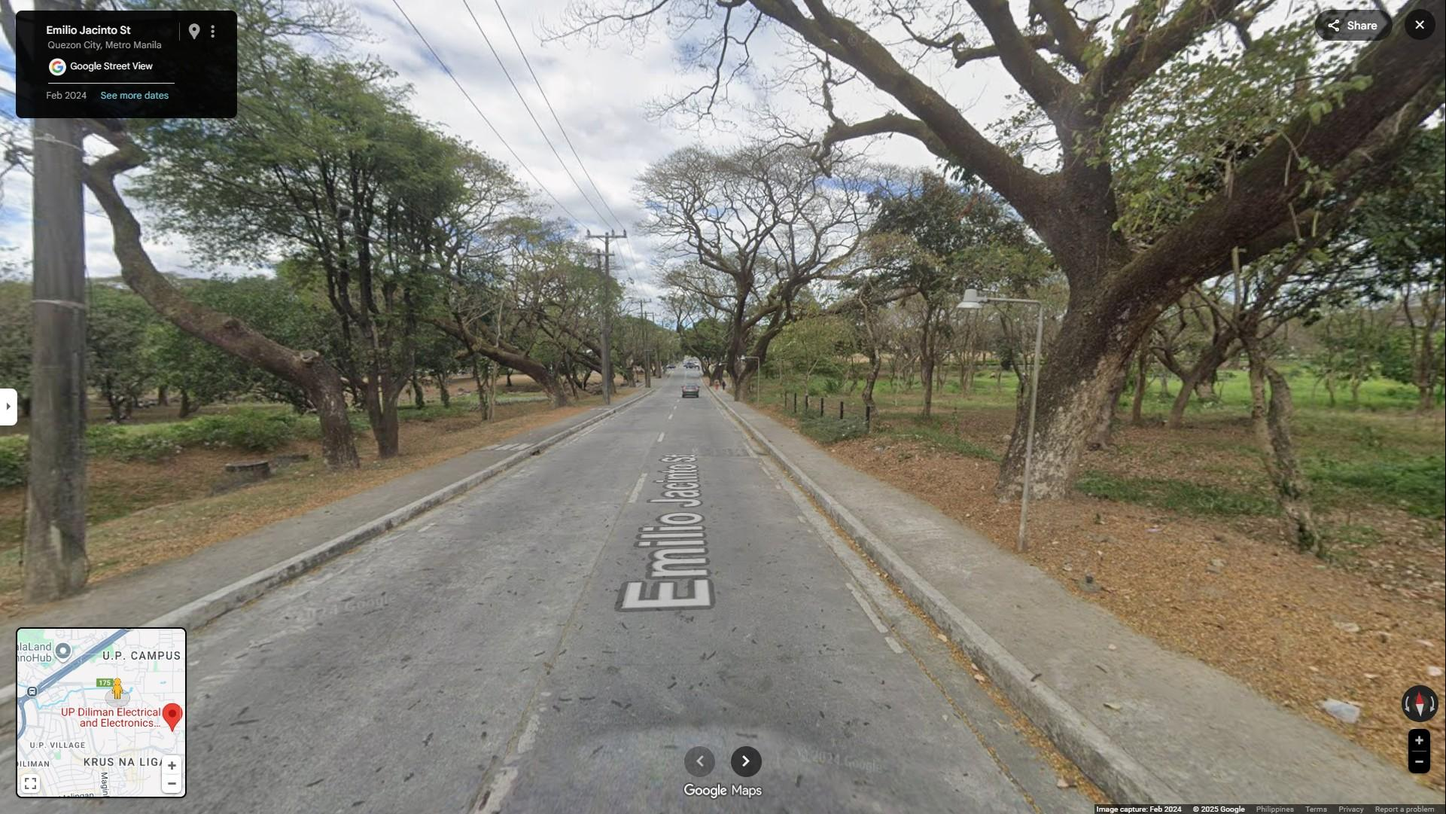pedestrian: (714, 378, 720, 391), (721, 379, 726, 391), (697, 364, 700, 372)
